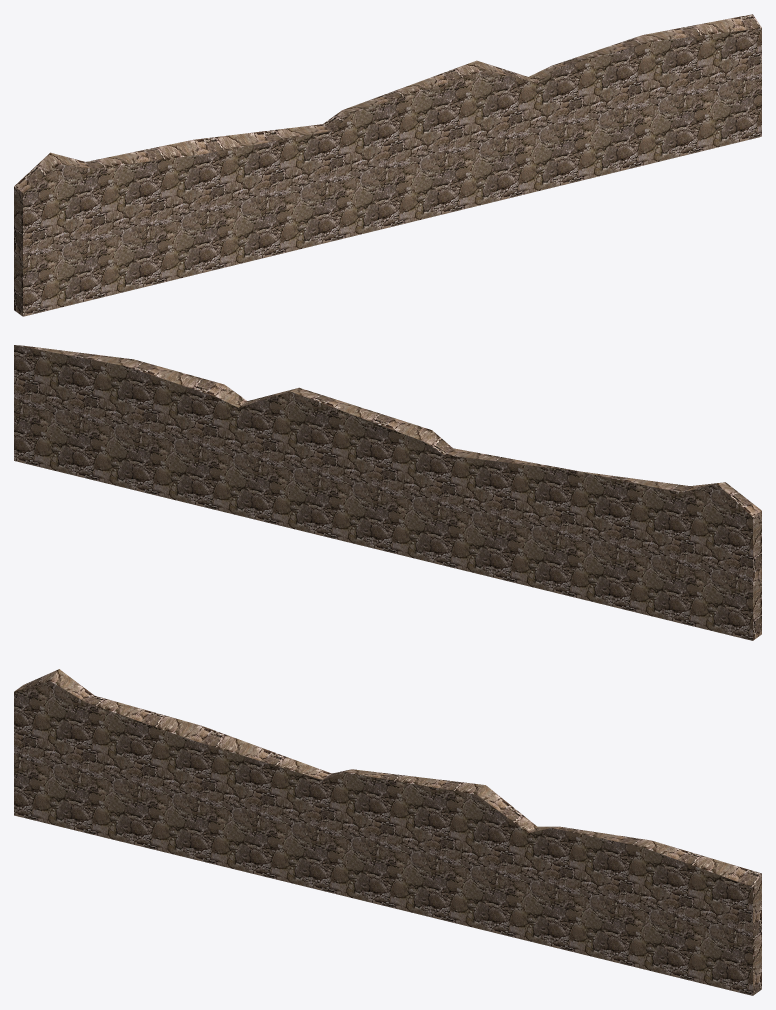
The model's file is stnwal04.glb.
The picture shows the model from 3 angles, top to bottom: view 1: azimuth 30°, elevation 25°; view 2: azimuth 150°, elevation 25°; view 3: azimuth 330°, elevation 25°; orthographic projection.
Parts seen in each view (by area): view 1: _stnwal04; view 2: _stnwal04; view 3: _stnwal04.
Boxes of the visible parts, <box> form: _stnwal04: <box>14,14,761,316</box>; _stnwal04: <box>14,345,761,640</box>; _stnwal04: <box>14,669,761,995</box>.
Bounding box in the file's own units: 15.5 × 2.99 × 0.344.
Materials: 1 (1 with a texture image).
